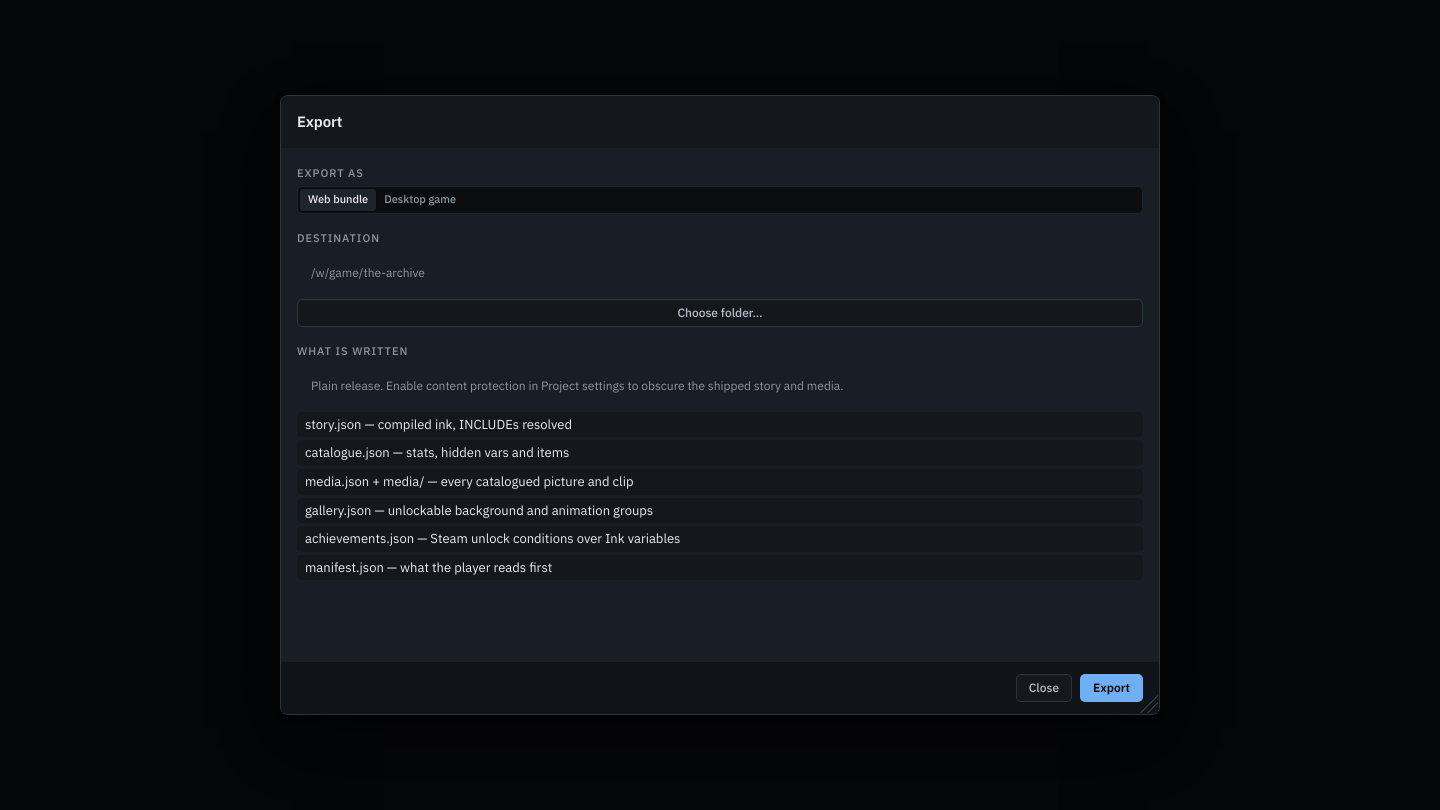
Scenario: ExportDialog › refuses a Steam App ID that is not a number, and no platforms at all
The width and height of the screenshot is (1440, 810).
Click the radio button labelled "Desktop game".
click(420, 200)  # box [376, 189, 464, 211]
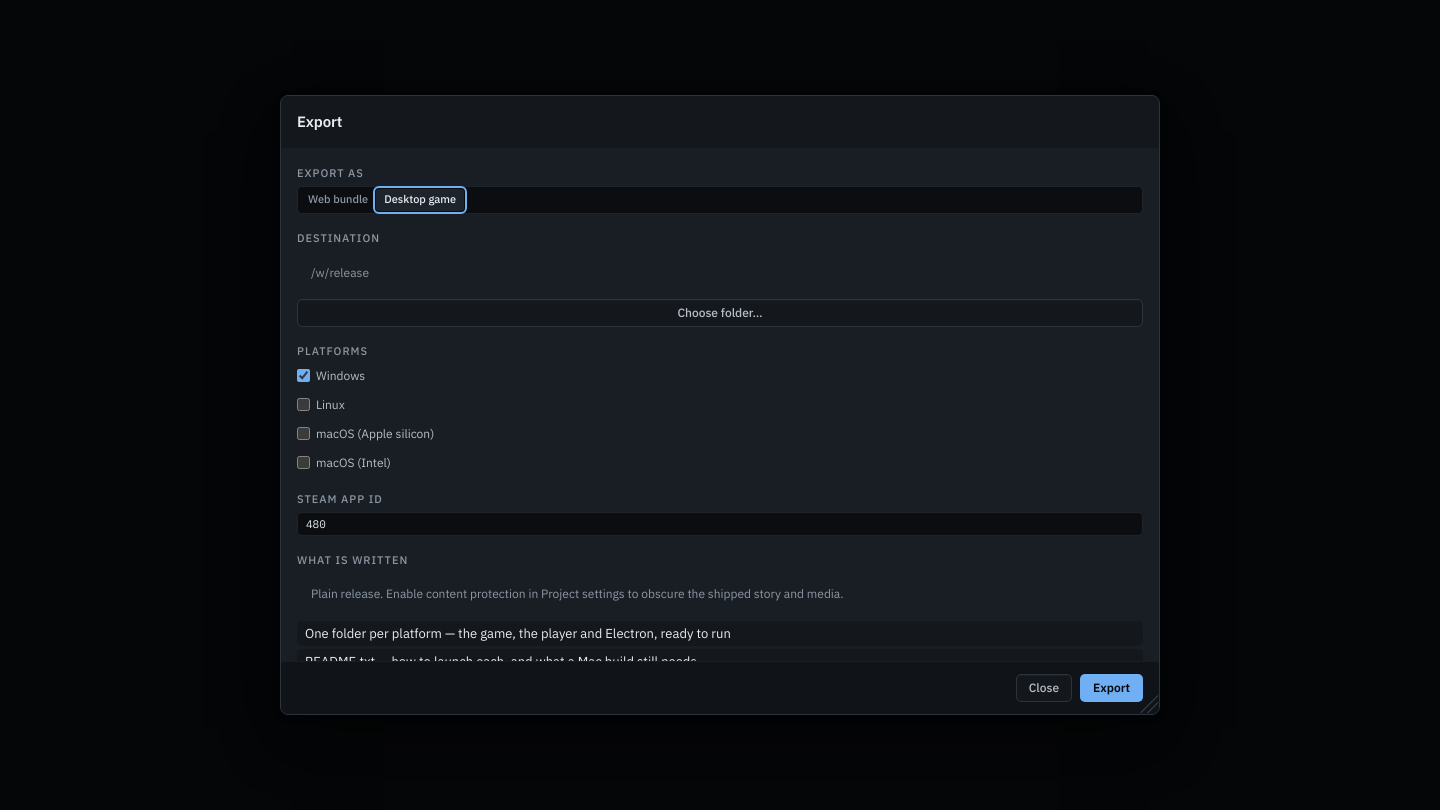
Now the field labelled "Steam App ID" holds "480"
Type "spacewar" into the field labelled "Steam App ID".
click(720, 524); type("spacewar")  # box [297, 512, 1143, 536]
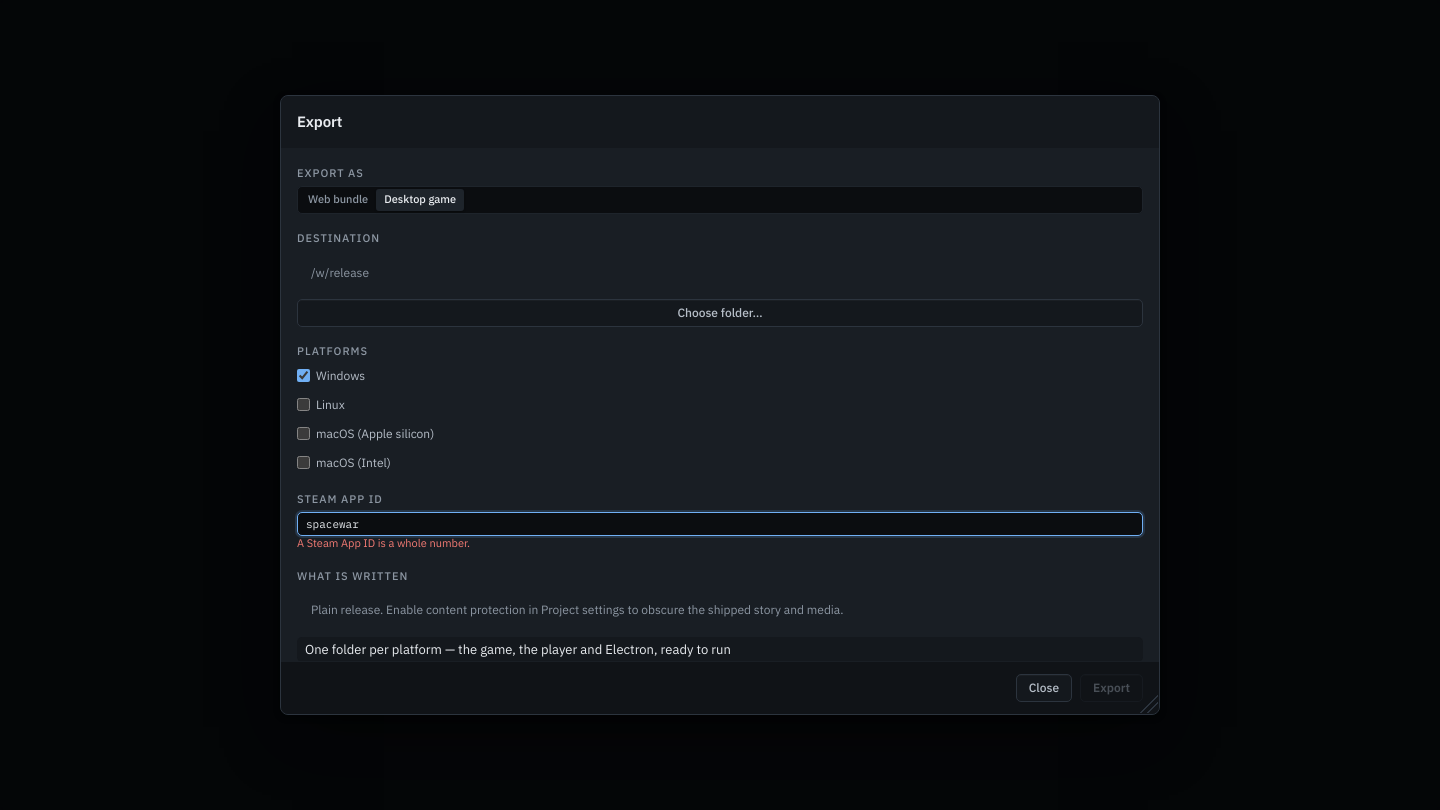
Now the text "A Steam App ID is a whole number." is shown, box [297, 536, 470, 550]
Now the button "Export" is disabled, box [1080, 674, 1143, 702]
Clear the field labelled "Steam App ID" at (720, 524), box [297, 512, 1143, 536]
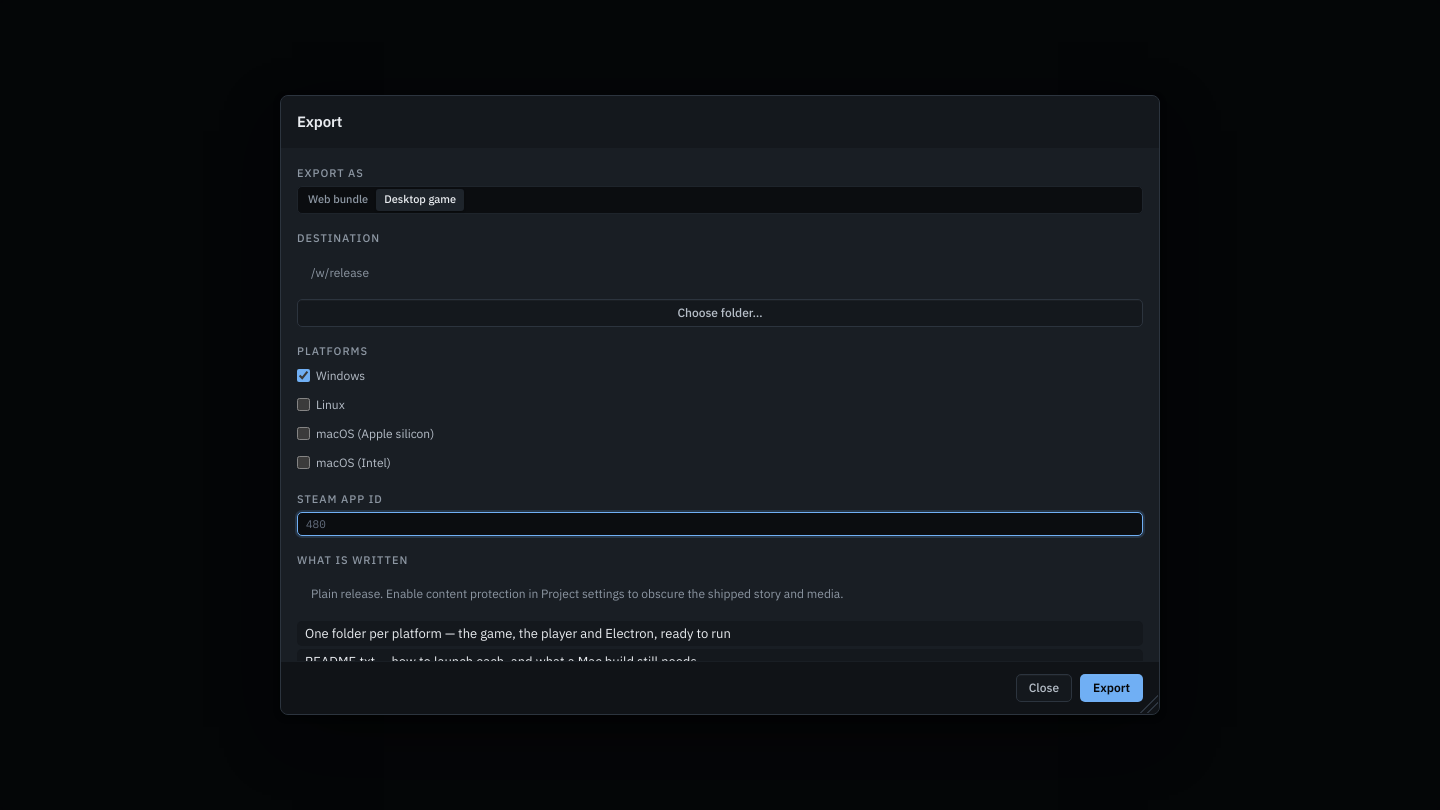
Click the checkbox labelled "Windows".
click(304, 376)  # box [297, 369, 310, 382]
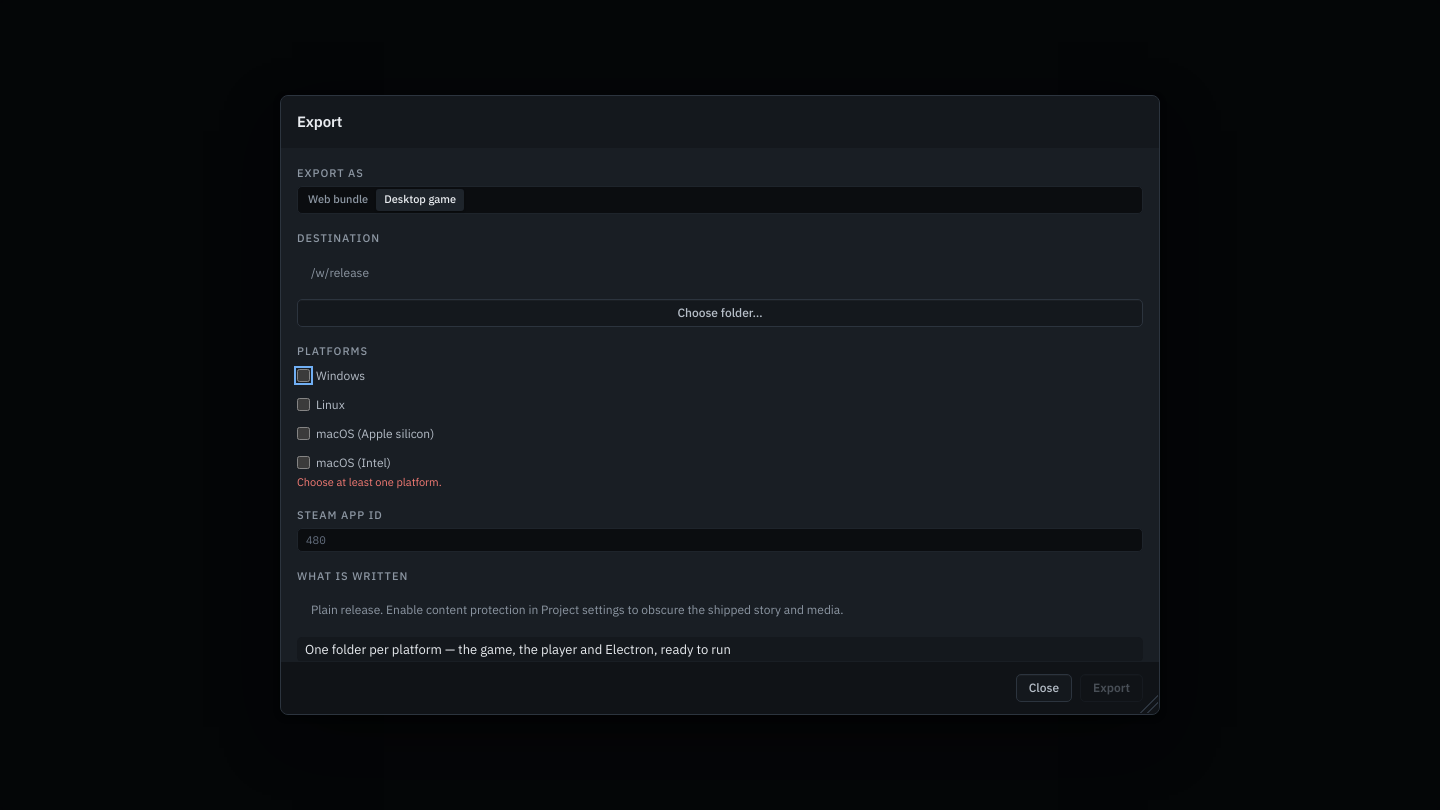
Now the text "Choose at least one platform." is shown, box [297, 475, 442, 489]
Now the button "Export" is disabled, box [1080, 674, 1143, 702]
